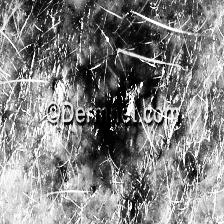Benign Marking or Mole: (56, 31, 160, 176)
